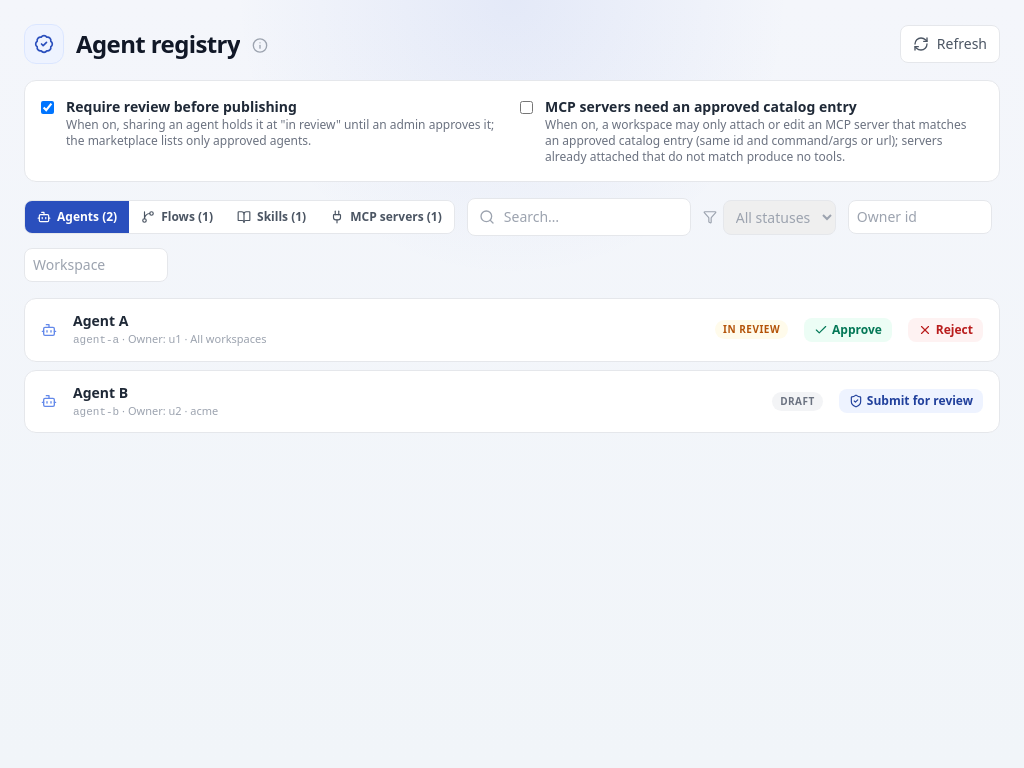
Test: AgentRegistry — an admin viewer › switches to the MCP tab and shows the catalog request form
The image size is (1024, 768).
Expected: the text "Agent A" is shown, x1=73 y1=311 x2=128 y2=330
Step 1. Click the button "MCP servers (1)" → (386, 217), box x1=318 y1=201 x2=454 y2=233
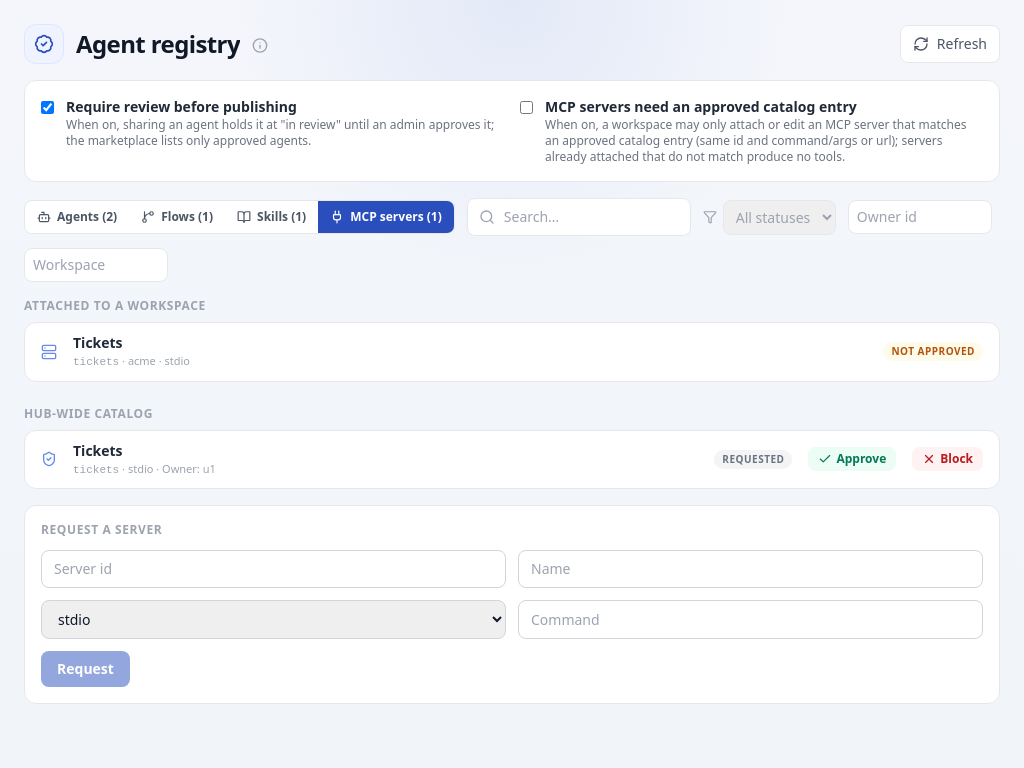
Now the text "Tickets" next to "Not approved" is shown, box x1=73 y1=333 x2=123 y2=352
Now the field with placeholder "Server id" is shown, box x1=41 y1=550 x2=506 y2=588
